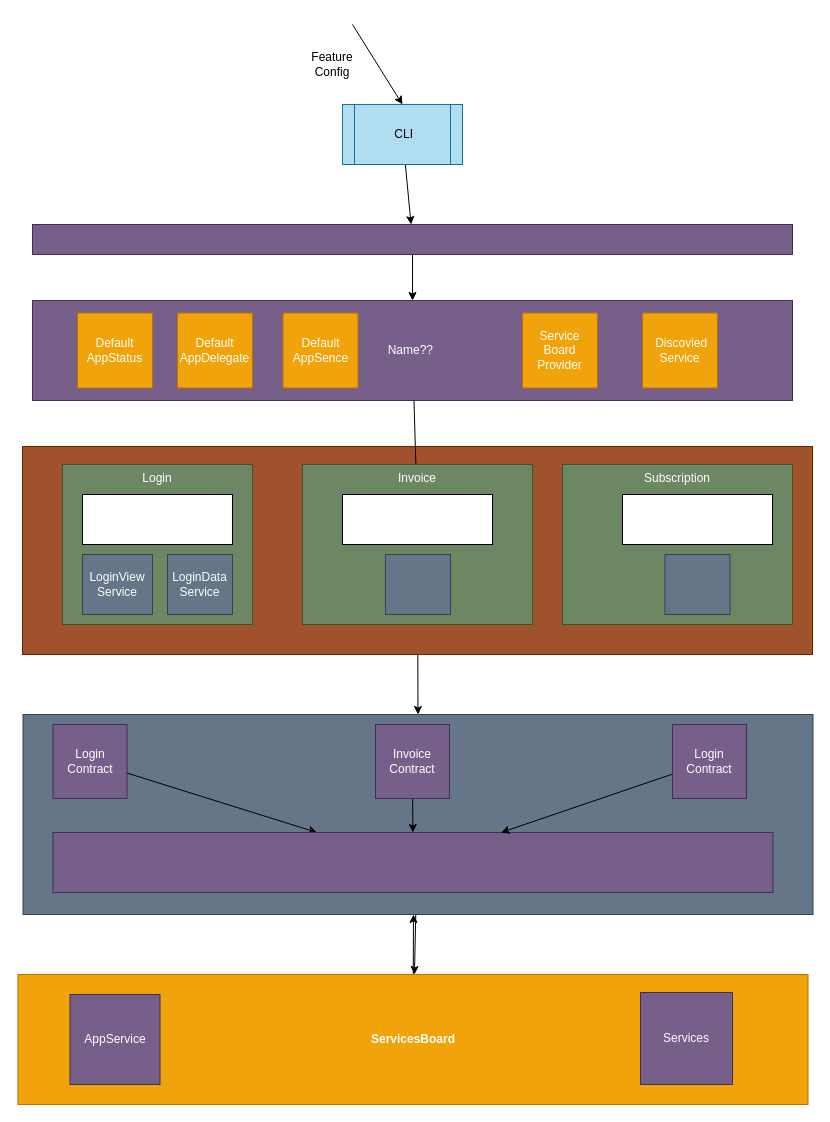
The diagram is 830 pixels wide and 1122 high, and some of its shapes have lost their labels. The centre of each missing label's shape, as x and y in pixels:
App: the point at 412,239
Discoverable Service: the point at 412,862
Invoice Internal: the point at 417,519
InvoiceView Service: the point at 417,584
Login Internal: the point at 157,519
Subscription Internal: the point at 697,519
Subscription Service: the point at 697,584
